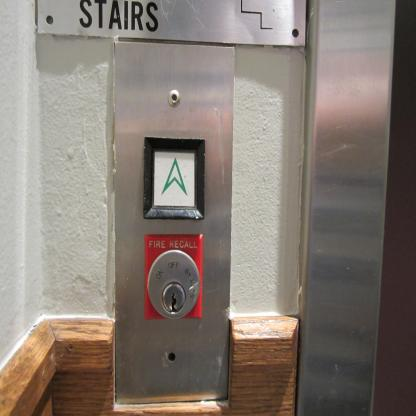keyhole: (143, 234, 203, 319)
up: (142, 135, 206, 221)
